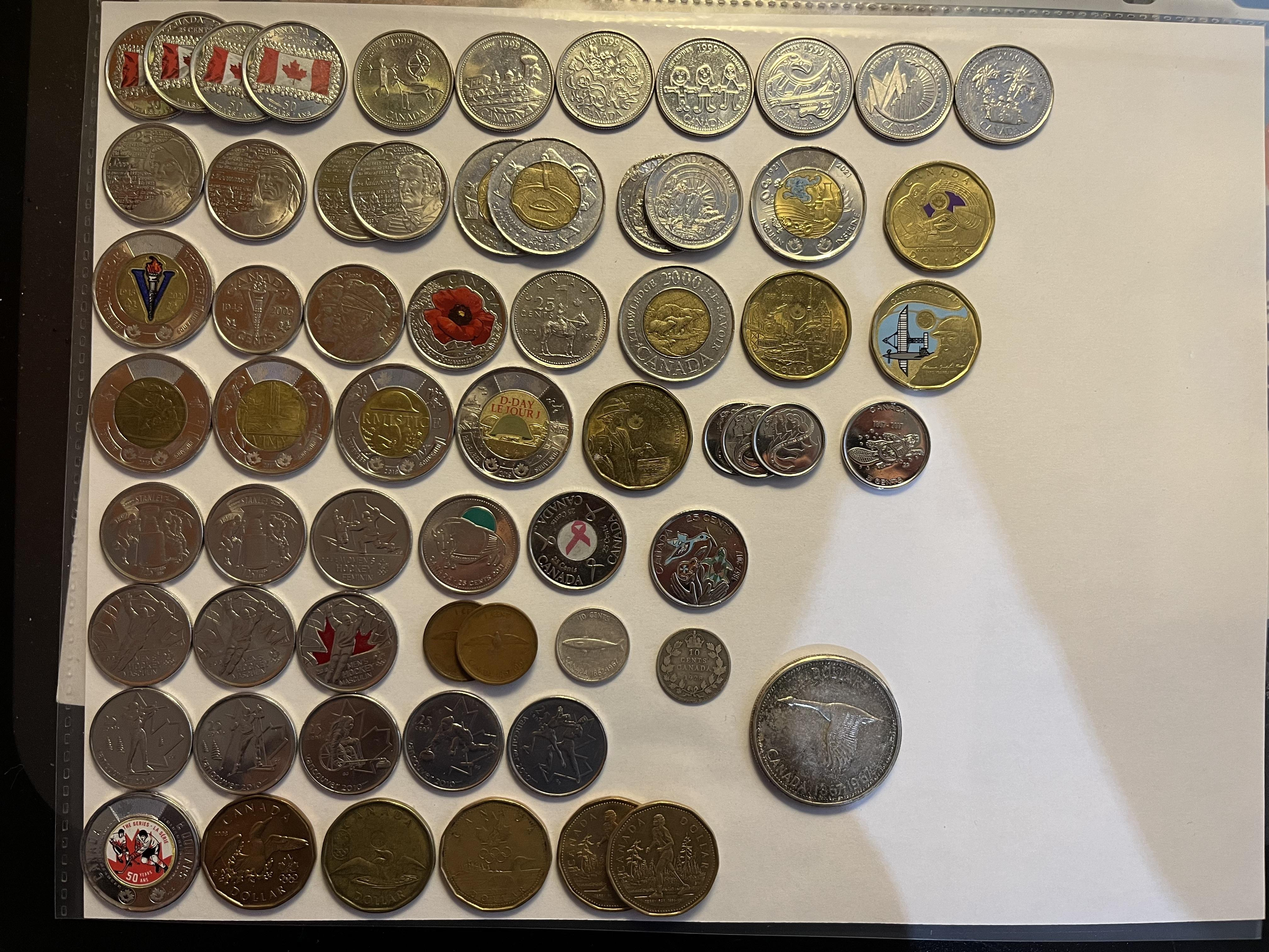coin: (750, 655, 900, 805), (90, 354, 210, 473), (81, 793, 199, 912), (93, 230, 212, 348), (335, 365, 453, 482), (455, 367, 572, 483), (487, 139, 604, 255), (216, 357, 330, 475), (619, 266, 733, 382), (202, 794, 316, 909), (750, 147, 865, 261), (606, 801, 719, 916), (321, 799, 435, 912), (438, 798, 551, 911), (870, 280, 980, 390), (884, 162, 995, 271), (741, 272, 850, 380), (584, 382, 691, 490), (89, 687, 192, 790), (102, 122, 204, 224), (99, 482, 202, 583), (204, 484, 306, 585), (194, 693, 295, 794), (194, 587, 295, 688), (299, 694, 400, 795), (89, 585, 190, 686), (310, 489, 412, 589), (243, 22, 345, 122), (403, 691, 504, 791), (303, 264, 404, 364), (353, 30, 453, 131), (206, 140, 306, 240), (507, 696, 607, 796), (298, 592, 398, 692), (407, 269, 506, 369), (419, 495, 519, 594), (349, 142, 448, 241), (455, 32, 553, 132), (644, 152, 742, 251), (529, 491, 627, 590), (954, 46, 1053, 144), (510, 271, 608, 369), (855, 43, 953, 141), (755, 37, 853, 135), (656, 38, 753, 136), (650, 510, 748, 607), (556, 32, 652, 129), (557, 797, 638, 911), (141, 12, 223, 112), (212, 264, 302, 354), (454, 140, 523, 256), (191, 21, 268, 123), (842, 401, 930, 489), (105, 20, 178, 119), (455, 603, 537, 685), (313, 142, 374, 242), (617, 154, 678, 254), (656, 628, 730, 704), (555, 608, 629, 683), (753, 403, 825, 477), (422, 600, 479, 681), (721, 405, 770, 479), (702, 403, 747, 475)
